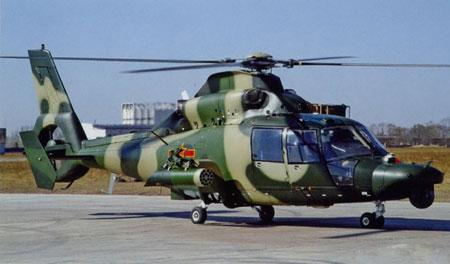airplane: (15, 42, 450, 224)
